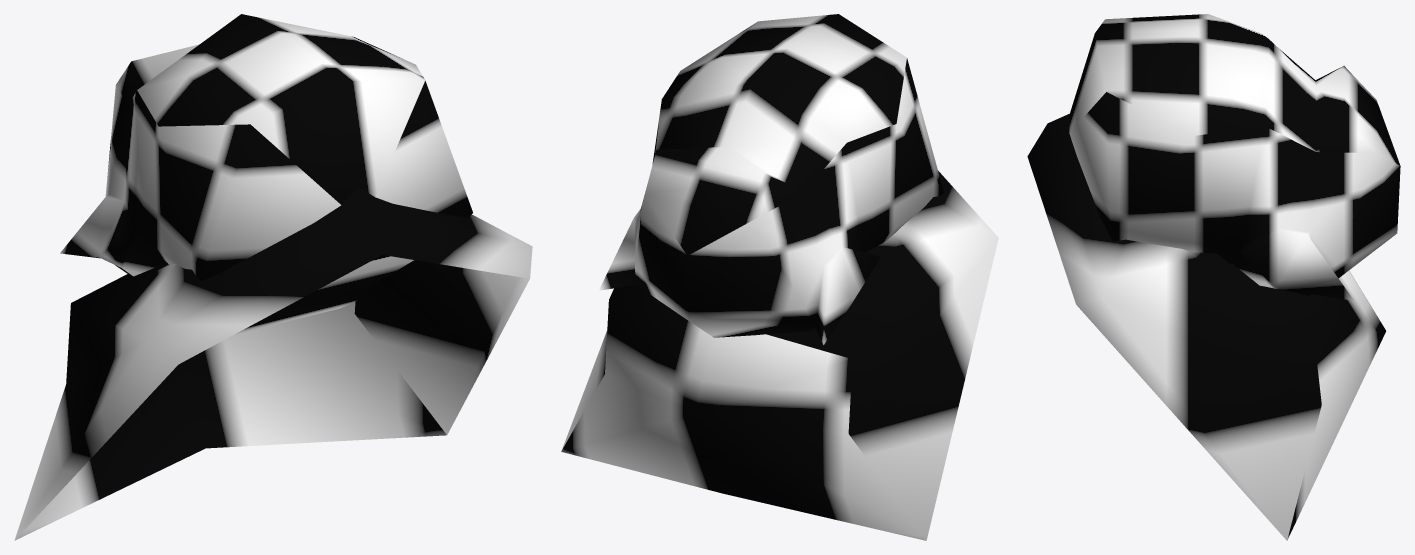
File: infaunmotr.dae
3 views of the same model, side by side, from view 1: azimuth 30°, elevation 25°; view 2: azimuth 150°, elevation 25°; view 3: azimuth 270°, elevation 25° (orthographic). The views are drawn at different scales.
Parts seen in each view (by area): view 1: face; view 2: face; view 3: face.
Boxes of the visible parts, left/top/right/bottom form: face: left=14, top=14, right=532, bottom=540; face: left=561, top=14, right=998, bottom=540; face: left=1027, top=14, right=1400, bottom=540.
Bounding box in the file's own units: 2.43 × 2.13 × 2.65.
Materials: 1 (1 with a texture image).
